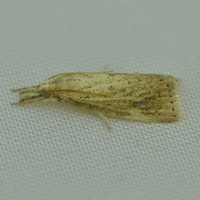insect: (11, 70, 181, 129)
